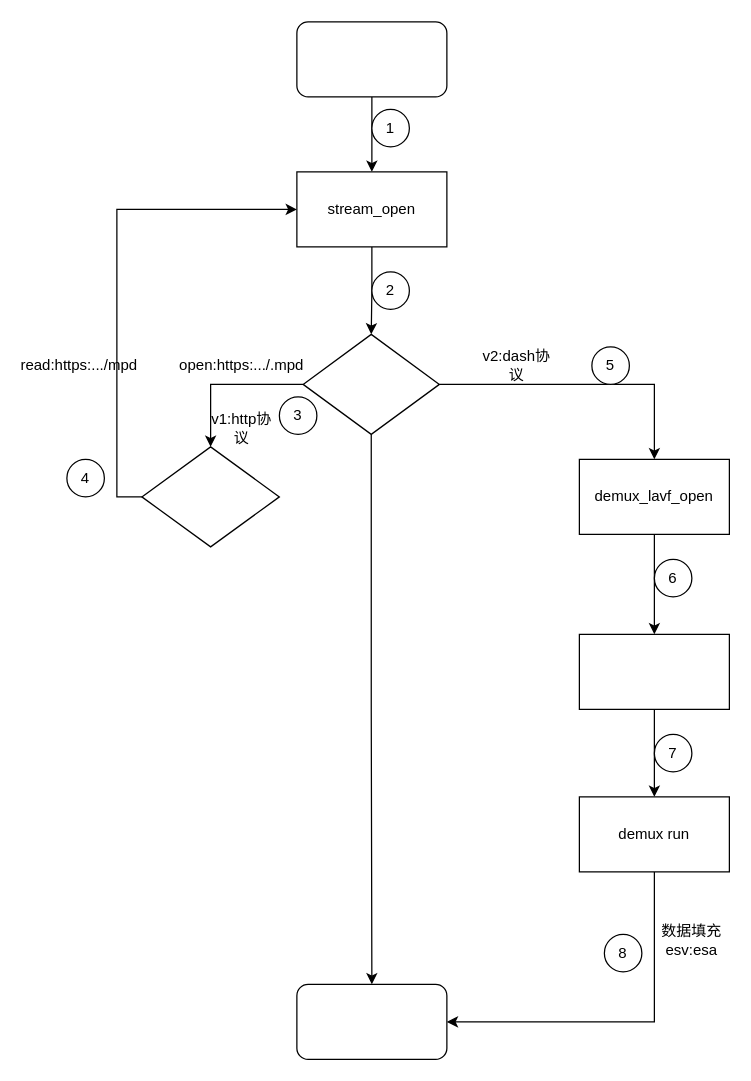
Some shapes in this 751 by 1081 pixel diagram are drawn without their labels. The shapes that lost their labels are listed below. From the top down, each one's box as (x1, y1, x2, y2) in pixels, then its label:
(296, 21, 447, 97): player->url
(302, 333, 439, 434): v1_player_协议判断
(141, 446, 279, 547): v1协议探测
(578, 633, 729, 709): dash init open_url:video.m4s open_url:audio.m4s
(296, 983, 447, 1059): player run
